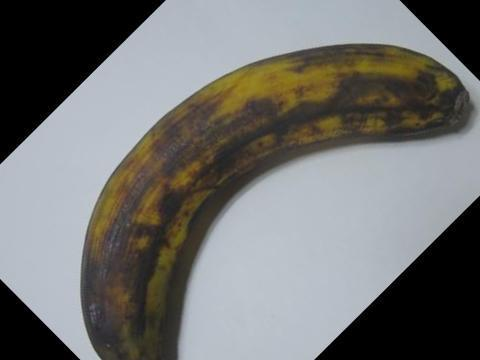overripe: (61, 27, 479, 359)
